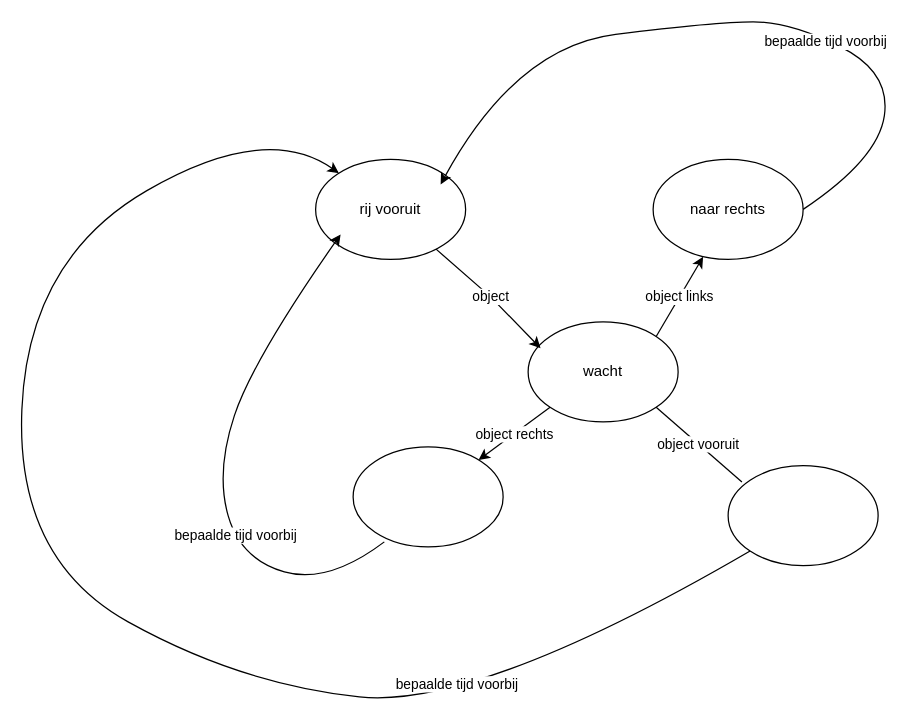
This 909x720 diagram has some shape labels left out. The centre of each missing label's shape, as x and y in pixels:
"naar links" goes at pixel 427 496.
"U-turn" goes at pixel 802 515.
